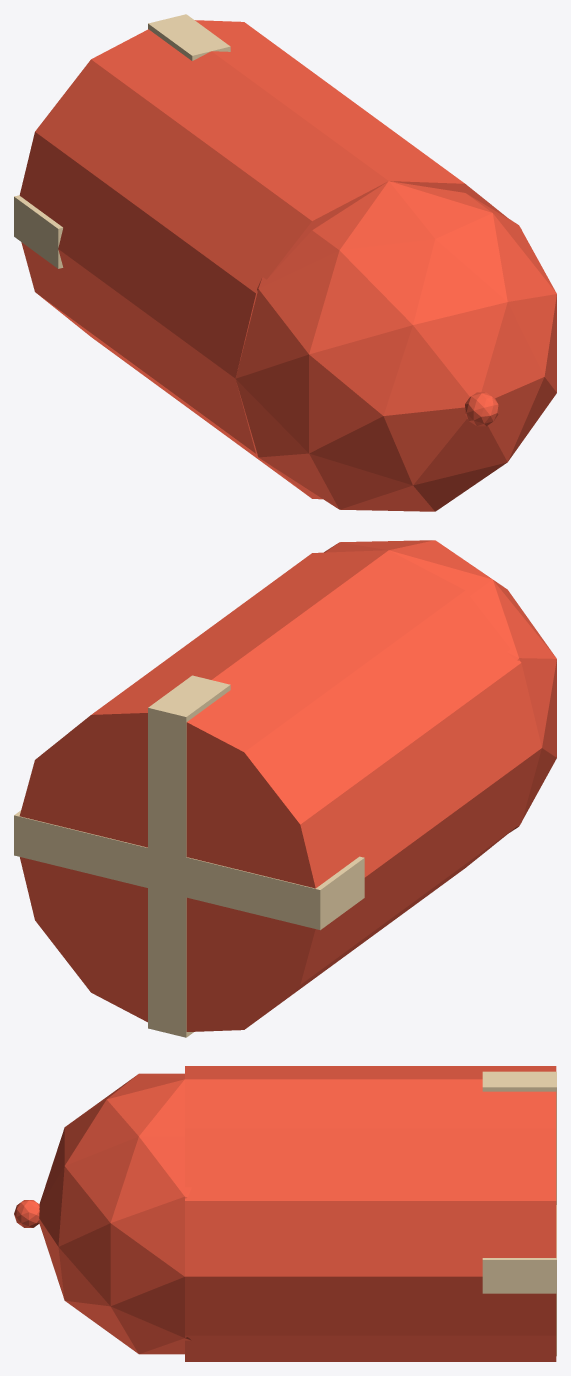
The model's file is nil_link_mesh.dae.
3 renders of one model, top to bottom at view 1: azimuth 30°, elevation 25°; view 2: azimuth 150°, elevation 25°; view 3: azimuth 270°, elevation 25°, orthographic. The views are drawn at different scales.
Parts seen in each view (by area): view 1: nil_link (×5); view 2: nil_link (×4); view 3: nil_link (×5).
Boxes of the visible parts, box(x1,y1,x2,y2) form: nil_link (×5): box(14, 14, 556, 511); nil_link (×4): box(14, 540, 556, 1037); nil_link (×5): box(14, 1066, 556, 1361).
Size of the model in its own units: 0.04 by 0.04 by 0.0731.
